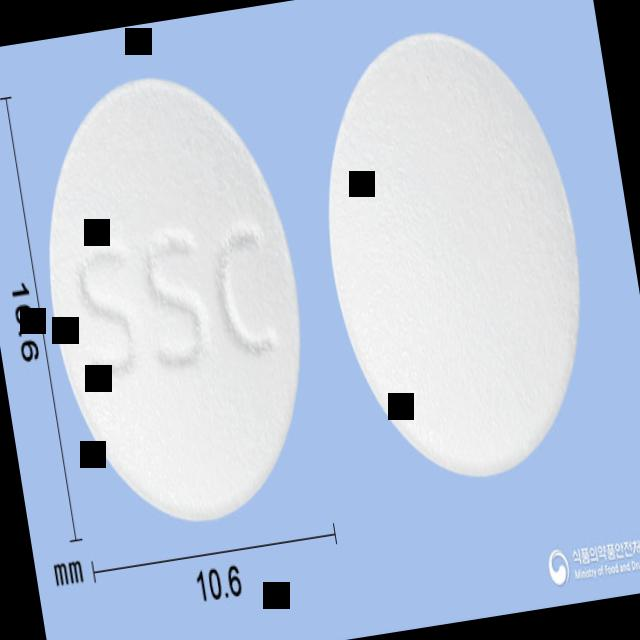Azabio - 50mg: (298, 12, 610, 494), (20, 61, 330, 540)
